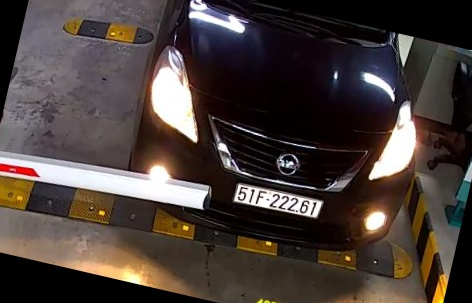plate: (230, 174, 334, 231)
